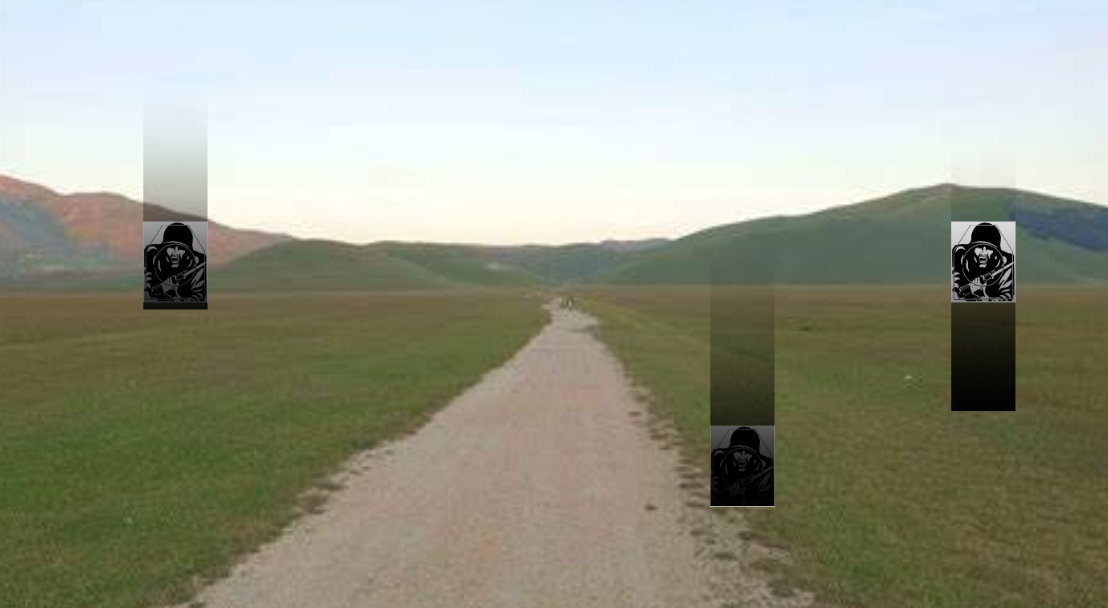HVT1: (951, 221, 1017, 303), (711, 426, 774, 506), (144, 222, 206, 302)
